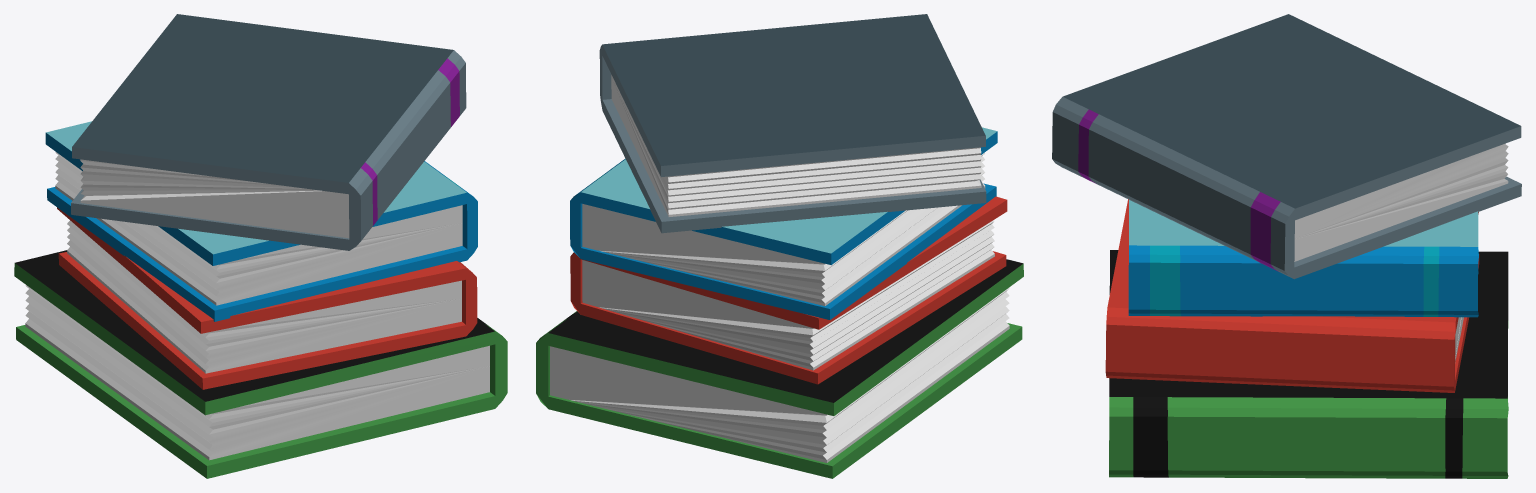
3 views of the same model, side by side, from view 1: azimuth 30°, elevation 25°; view 2: azimuth 150°, elevation 25°; view 3: azimuth 270°, elevation 25° (orthographic). The views are drawn at different scales.
Visible parts, largest first — view 1: node_MeshObject-725909632-PolyPaper17; view 2: node_MeshObject-725909632-PolyPaper17; view 3: node_MeshObject-725909632-PolyPaper17.
Boxes of the visible parts, x1=… form: node_MeshObject-725909632-PolyPaper17: x1=14, y1=14, x2=507, y2=478; node_MeshObject-725909632-PolyPaper17: x1=536, y1=14, x2=1023, y2=478; node_MeshObject-725909632-PolyPaper17: x1=1052, y1=14, x2=1521, y2=478.
Bounding box in the file's own units: 0.8628 × 0.5972 × 0.8581.
